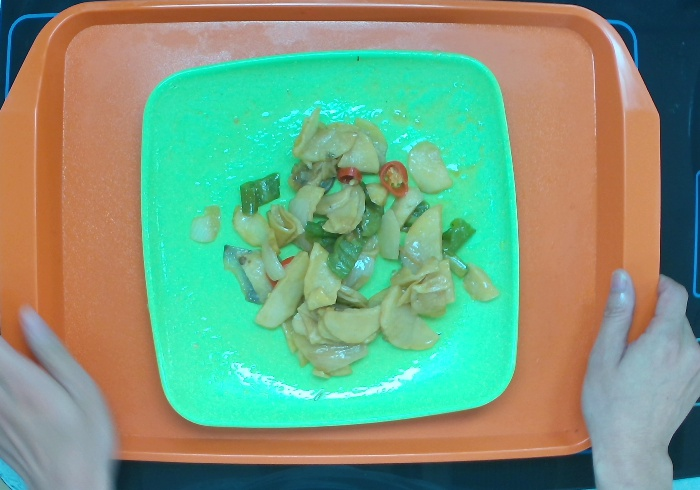ZNLD-Lv_Fang_Pan: (134, 47, 522, 428)
